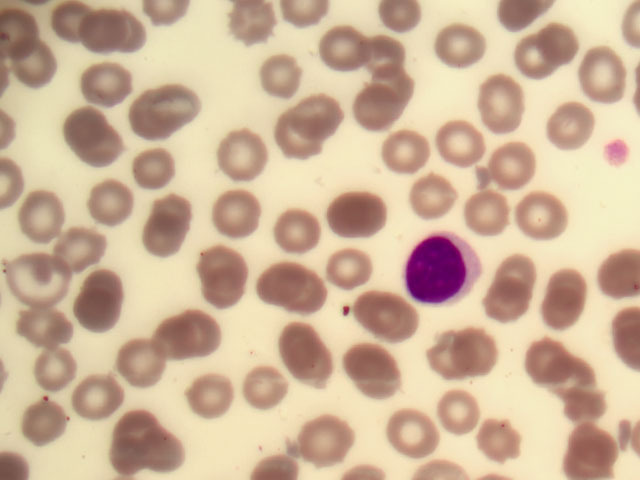Platelets: (603, 137, 634, 171)
RBC: (78, 59, 136, 111), (83, 7, 141, 59), (10, 38, 68, 90), (4, 9, 62, 61), (59, 99, 117, 151), (75, 115, 133, 167), (120, 89, 178, 141), (147, 75, 205, 127), (128, 143, 186, 195), (97, 168, 155, 220), (52, 220, 110, 272), (19, 248, 77, 300), (11, 187, 69, 239), (76, 255, 134, 307), (67, 289, 125, 341), (10, 300, 68, 352), (17, 336, 75, 388), (23, 401, 81, 453), (63, 377, 121, 429), (109, 338, 167, 390), (143, 315, 201, 367), (178, 303, 236, 355), (195, 244, 253, 296), (138, 211, 196, 263), (142, 186, 200, 238), (216, 187, 274, 239), (215, 130, 273, 182), (268, 109, 326, 161), (292, 79, 350, 131), (254, 56, 312, 108), (314, 22, 372, 74), (358, 23, 416, 75), (372, 51, 430, 103), (354, 79, 412, 131), (373, 124, 431, 176), (404, 168, 462, 220), (426, 112, 484, 164), (331, 185, 389, 237), (275, 202, 333, 254), (245, 249, 303, 301), (279, 260, 337, 312), (322, 241, 380, 293), (340, 280, 398, 332), (368, 291, 426, 343), (268, 323, 326, 375), (233, 363, 291, 415), (178, 368, 236, 420), (119, 397, 177, 449), (102, 428, 160, 480), (139, 421, 197, 473), (290, 413, 348, 465), (300, 344, 358, 396), (348, 342, 406, 394), (428, 384, 486, 436), (460, 322, 518, 374), (421, 325, 479, 377), (385, 404, 443, 456), (471, 415, 529, 467), (576, 422, 634, 474), (553, 383, 611, 435), (533, 351, 591, 403), (523, 336, 581, 388), (535, 291, 593, 343), (539, 269, 597, 321), (483, 275, 541, 327), (491, 247, 549, 299), (517, 190, 575, 242), (465, 187, 523, 239), (482, 141, 540, 193), (538, 102, 596, 154), (473, 71, 531, 123), (437, 24, 495, 76), (499, 21, 557, 73), (528, 16, 586, 68), (574, 45, 632, 97), (55, 1, 113, 52), (219, 1, 277, 52)
WBC: (405, 232, 480, 302)
